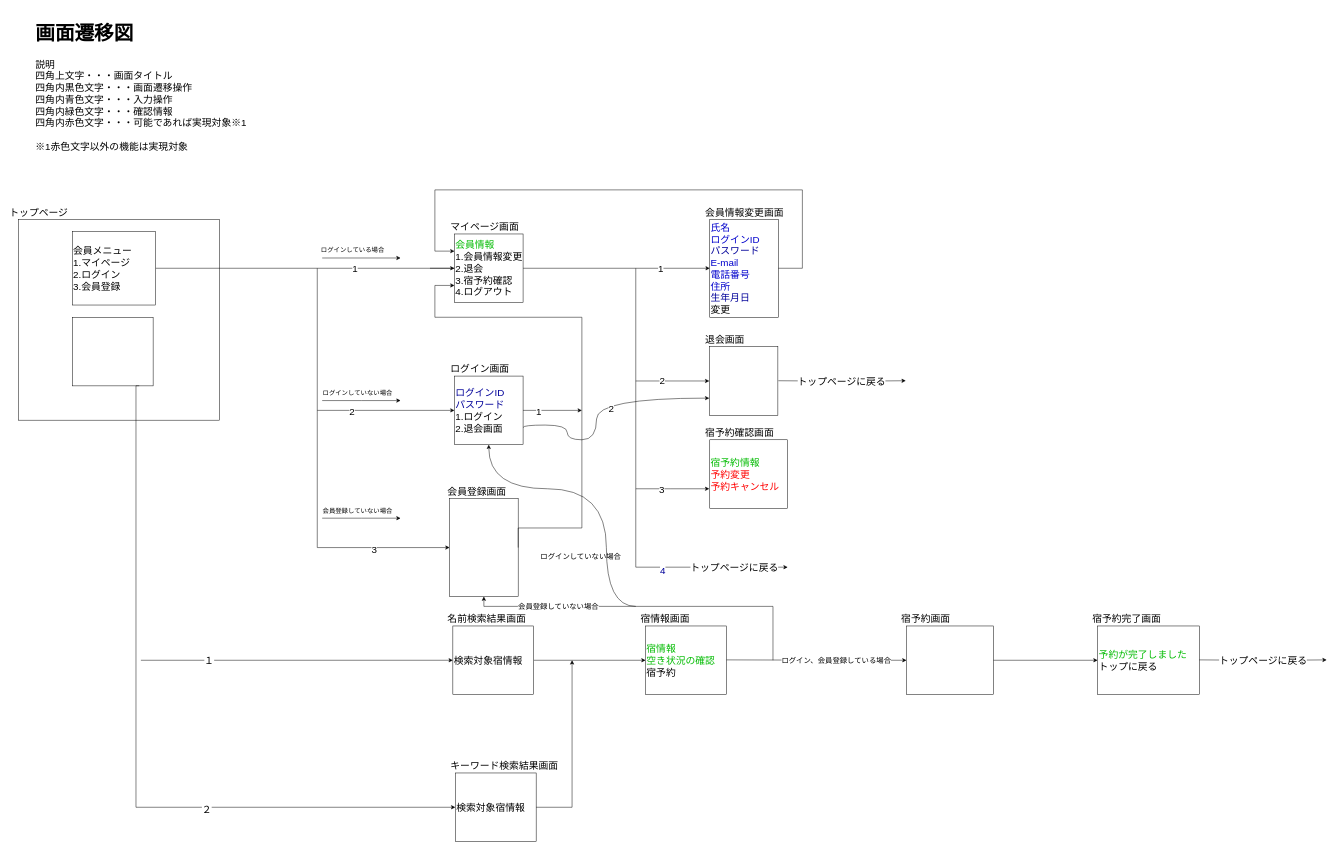
Image size: 1339x850. Some labels were removed from this diagram. Each missing label, with the centre of its shape:
"予約選択 予約" goes at (x=949, y=660).
"検索 1.名前検索 2. キーワード検索" goes at (x=112, y=351).
"氏名 ログインID パスワード E-mail 電話番号 住所 生年月日 登録" goes at (x=483, y=547).
"氏名 ログインID パスワード 退会" goes at (x=743, y=380).
